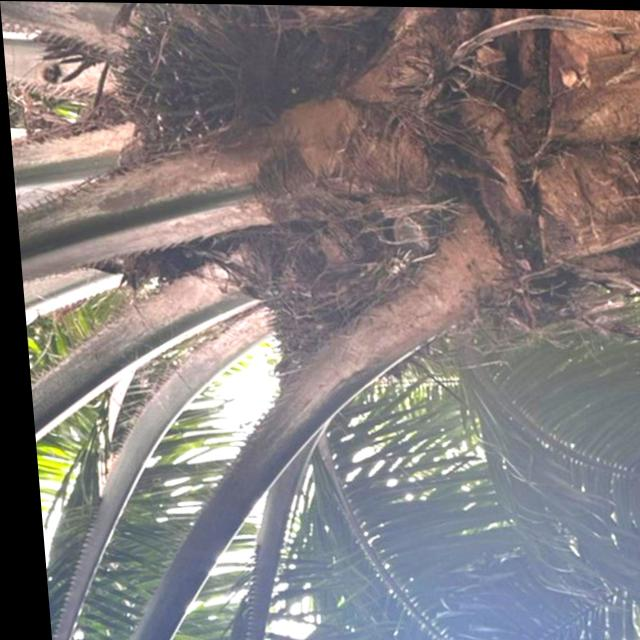unripe: (92, 1, 301, 187)
